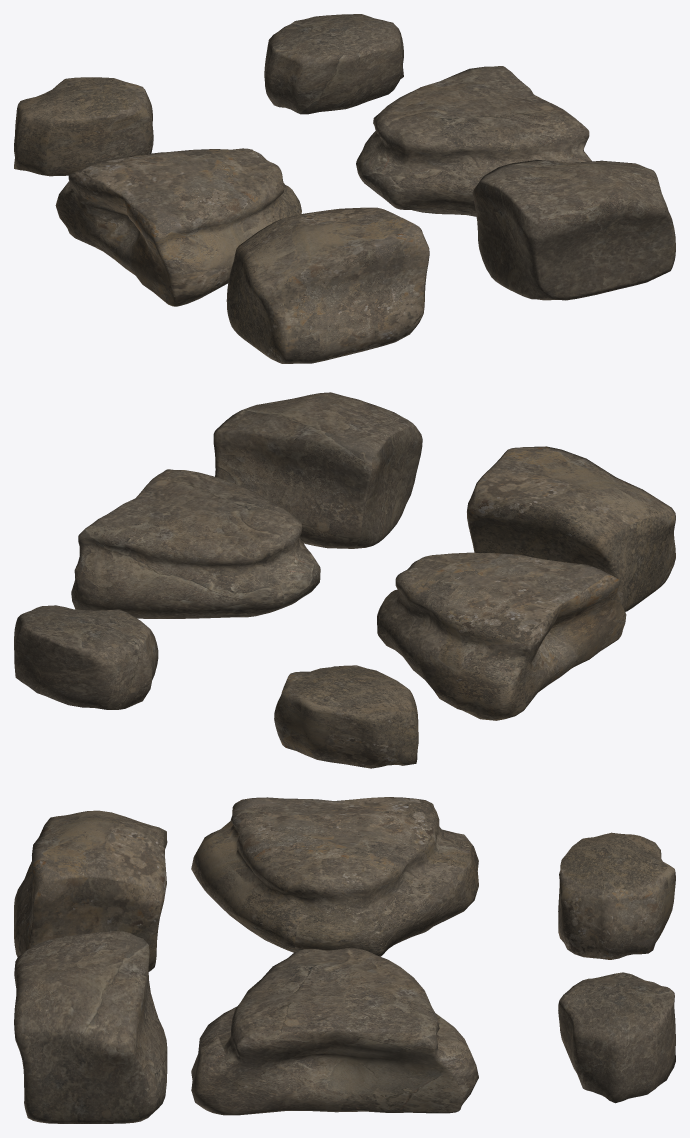
The model's file is rocks_variants.glb.
3 views of the same model, one above another, from view 1: azimuth 30°, elevation 25°; view 2: azimuth 150°, elevation 25°; view 3: azimuth 270°, elevation 25° (orthographic). The views are drawn at different scales.
Visible parts, largest first — view 1: rock_4, rock__4, rock_2, rock__3, rock_1, rock_3; view 2: rock__4, rock__3, rock_2, rock_4, rock_1, rock_3; view 3: rock__3, rock__4, rock_2, rock_4, rock_3, rock_1.
Part boxes in pixels (x1,y1,x2,y2): rock_4: [226, 207, 429, 363]; rock__4: [55, 148, 301, 306]; rock_2: [473, 160, 675, 300]; rock__3: [356, 66, 591, 216]; rock_1: [264, 14, 403, 114]; rock_3: [14, 77, 153, 176]; rock__4: [377, 552, 626, 720]; rock__3: [71, 469, 320, 618]; rock_2: [213, 392, 422, 548]; rock_4: [467, 446, 675, 611]; rock_1: [14, 605, 158, 709]; rock_3: [274, 665, 418, 768]; rock__3: [191, 948, 478, 1115]; rock__4: [191, 797, 478, 956]; rock_2: [14, 931, 167, 1123]; rock_4: [14, 810, 167, 971]; rock_3: [558, 832, 675, 959]; rock_1: [558, 972, 675, 1103].
Bounding box in the file's own units: 224 × 50.56 × 256.
Materials: 2 (2 with a texture image).
